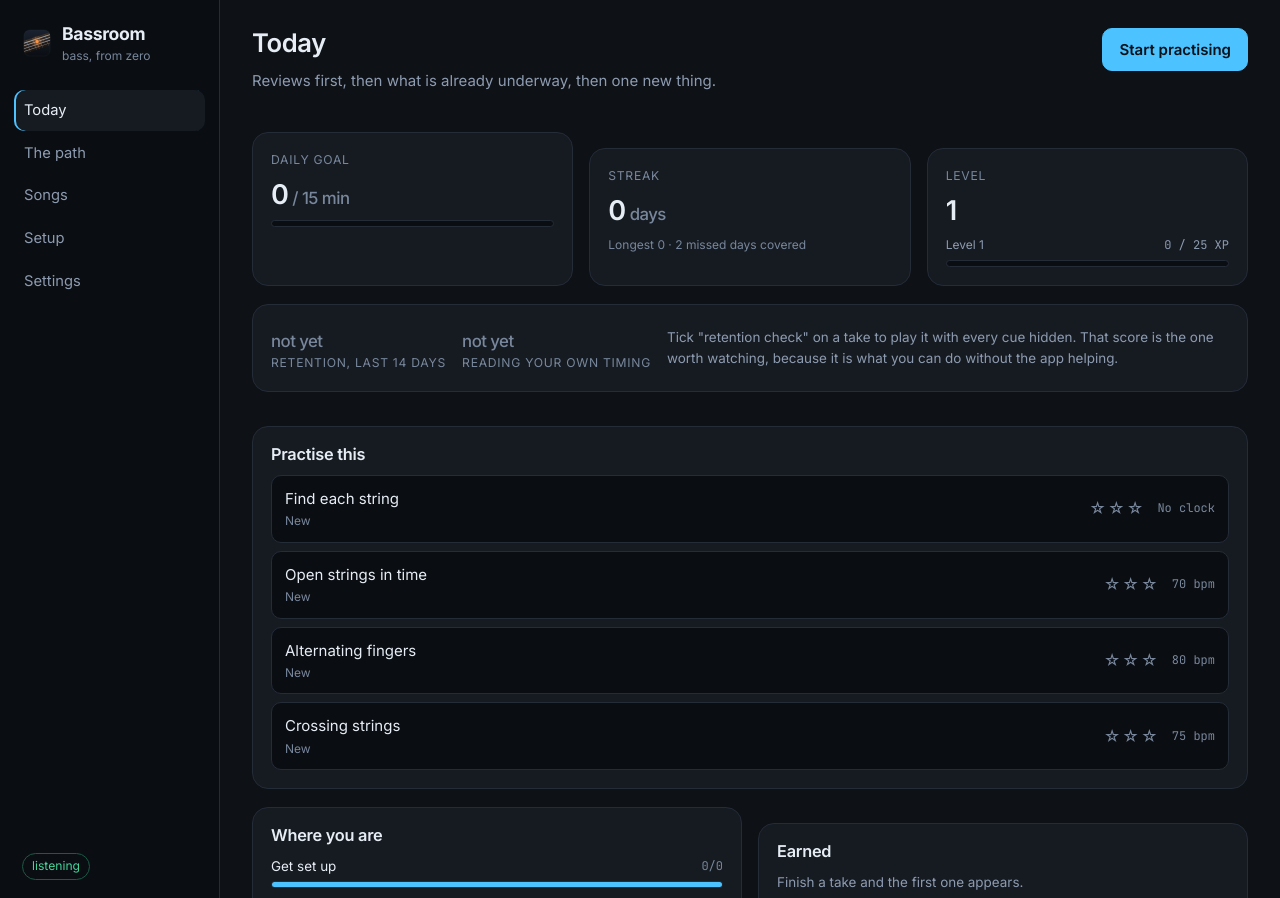
the practice screen with the input running › shows the exercise rather than the setup prompt
Click the button "The path" at [110, 153], box left=14, top=133, right=205, bottom=174
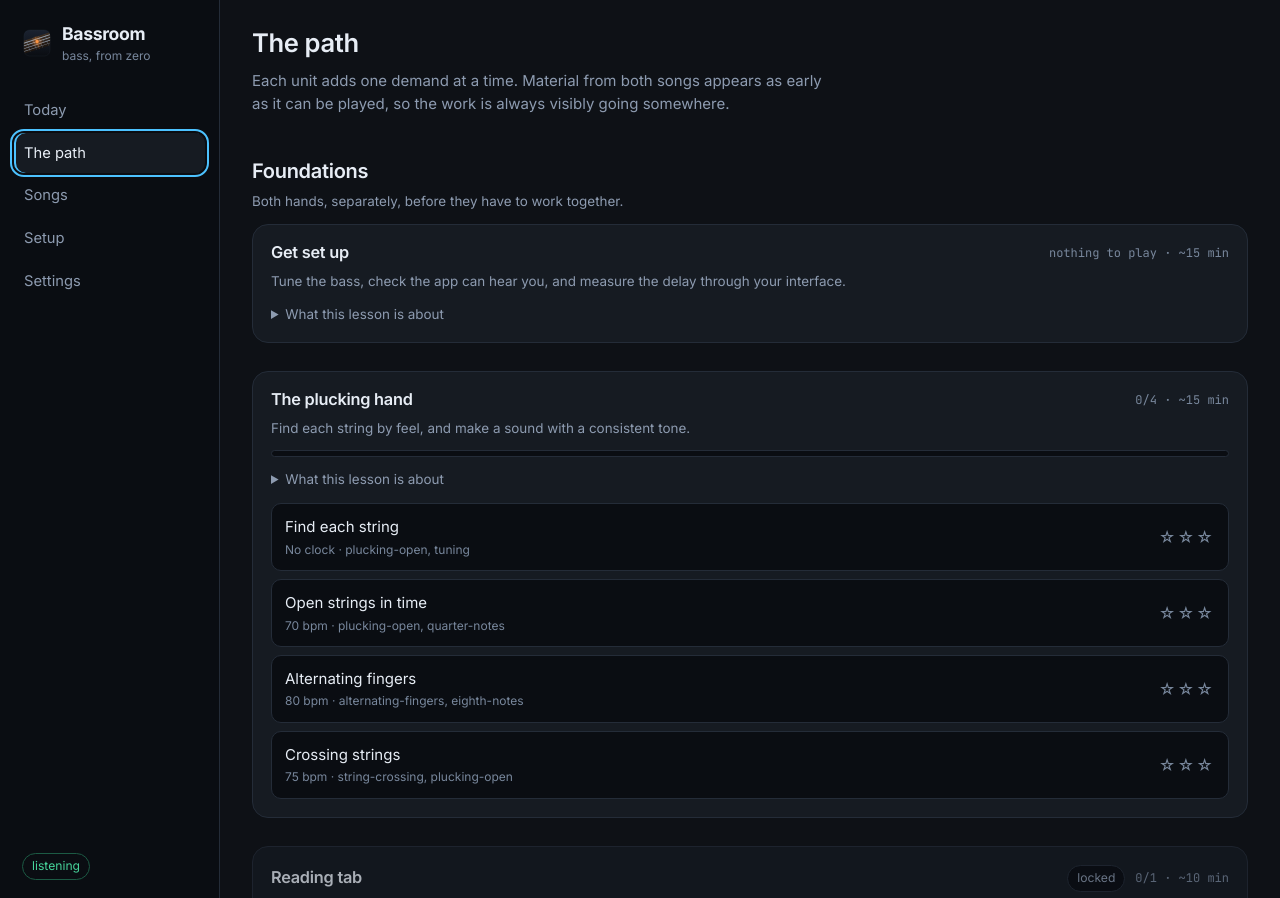
Click the button "Open strings in time" at [356, 603], box left=271, top=579, right=1229, bottom=647
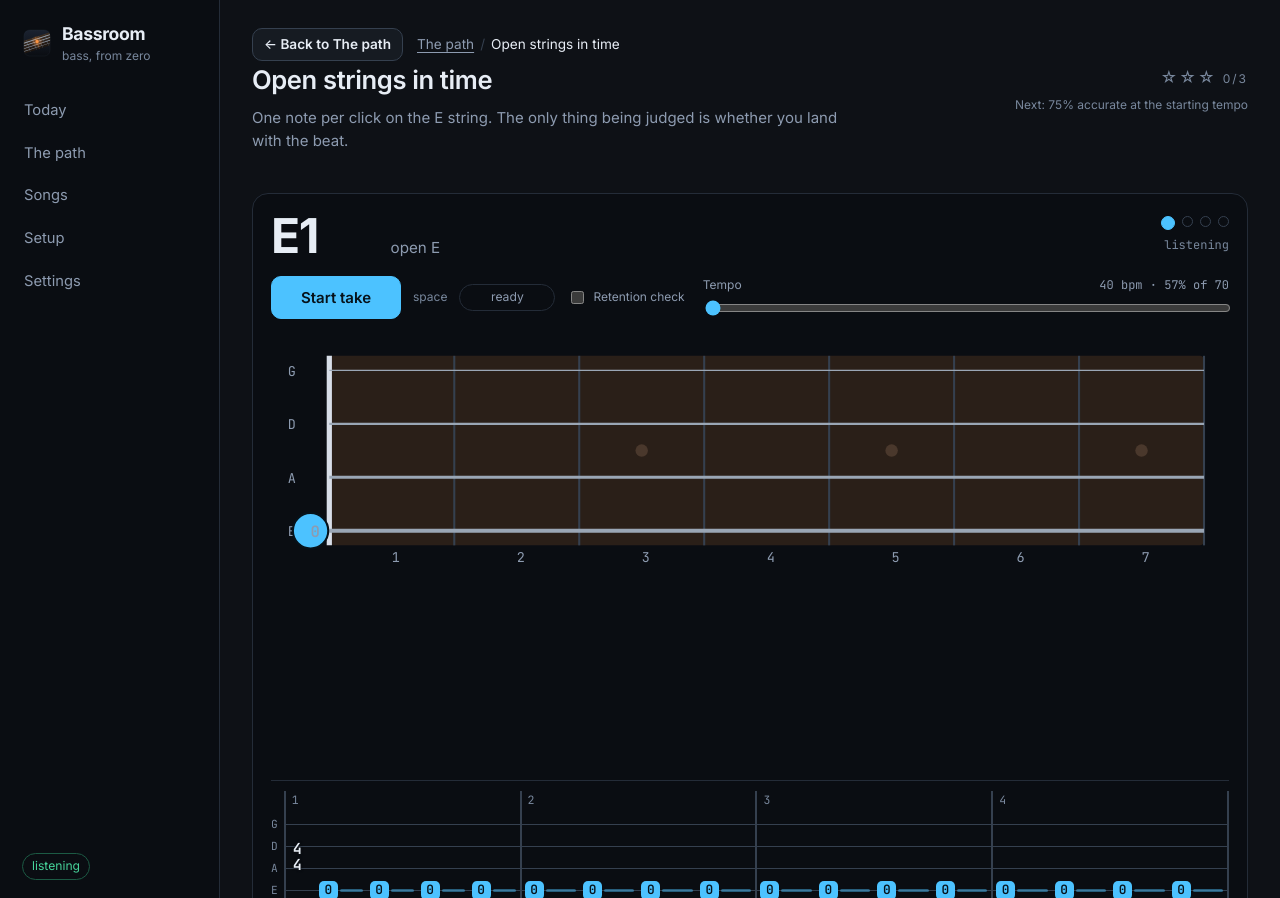
Result: the heading "Open strings in time" is shown at left=252, top=64, right=492, bottom=95
